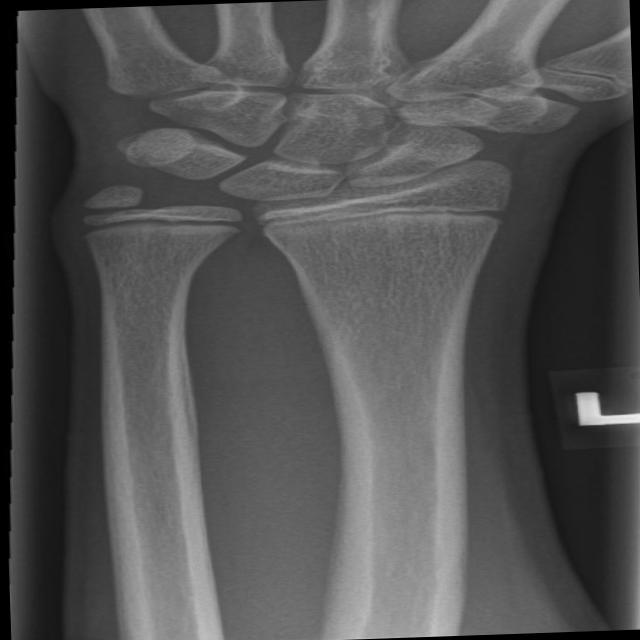fracture: (212, 192, 546, 240), (70, 199, 254, 245)
